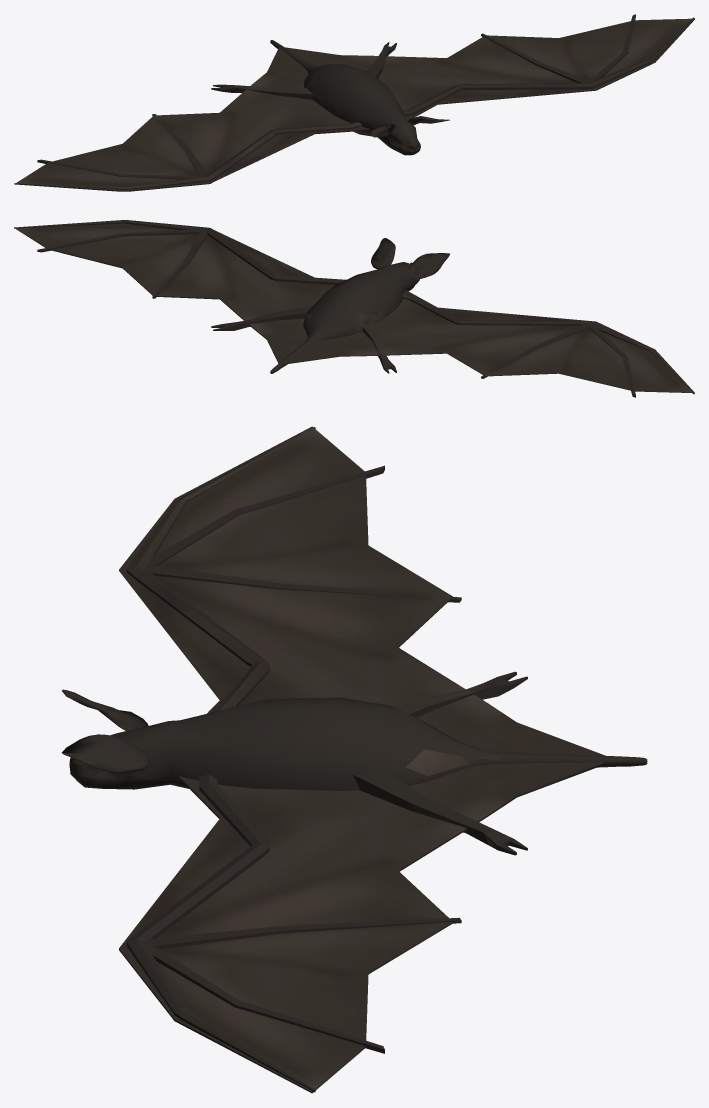
Rendered from bat.FBX.
3 renders of one model, top to bottom at view 1: azimuth 30°, elevation 25°; view 2: azimuth 150°, elevation 25°; view 3: azimuth 270°, elevation 25°, orthographic. The views are drawn at different scales.
Visible parts, largest first — view 1: bat; view 2: bat; view 3: bat.
Part boxes in pixels (box(x1,y1,x2,y2)): bat: box(14, 14, 694, 191); bat: box(14, 220, 694, 397); bat: box(61, 426, 647, 1093).
Size of the model in its own units: 104 by 38.69 by 7.39.
Materials: 1 (1 with a texture image).
